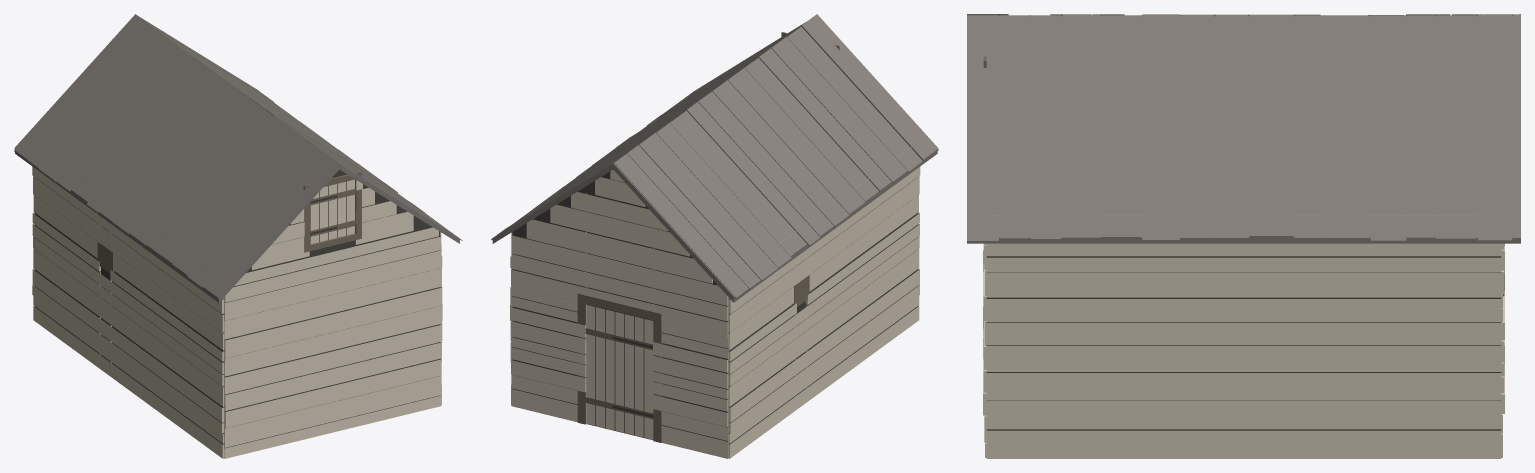
The model's file is recon_1835_north_a1_008__inferred_1835.glb.
The picture shows the model from 3 angles, left to right: view 1: azimuth 30°, elevation 25°; view 2: azimuth 150°, elevation 25°; view 3: azimuth 270°, elevation 25°; orthographic projection. The views are drawn at different scales.
Parts seen in each view (by area): view 1: recon_1835_north_a1_008__inferred_1835; view 2: recon_1835_north_a1_008__inferred_1835; view 3: recon_1835_north_a1_008__inferred_1835.
Part boxes in pixels (x1,y1,x2,y2): recon_1835_north_a1_008__inferred_1835: [14, 14, 462, 458]; recon_1835_north_a1_008__inferred_1835: [491, 14, 938, 458]; recon_1835_north_a1_008__inferred_1835: [967, 14, 1520, 458].
Size of the model in its own units: 4.9 by 5.22 by 7.04.
